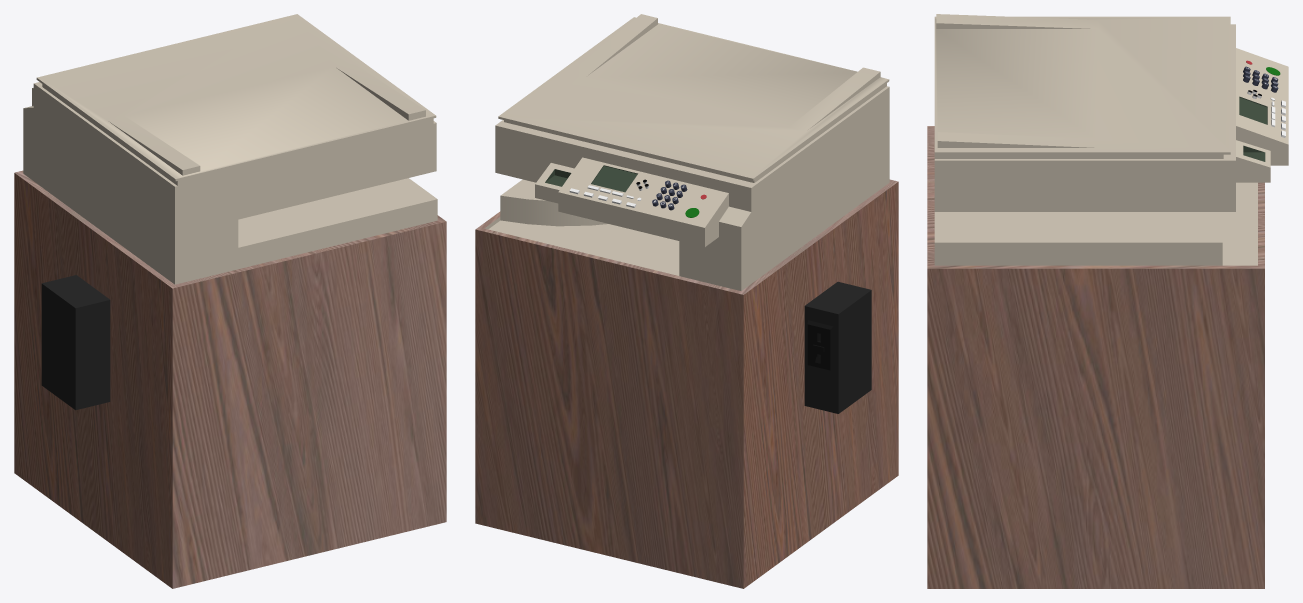
The model's file is xere.fbx.
3 views of the same model, side by side, from view 1: azimuth 30°, elevation 25°; view 2: azimuth 150°, elevation 25°; view 3: azimuth 270°, elevation 25° (orthographic). The views are drawn at different scales.
Parts seen in each view (by area): view 1: Cube; view 2: Cube; view 3: Cube.
Part boxes in pixels (bbox=[...]): Cube: bbox=[14, 14, 446, 588]; Cube: bbox=[475, 14, 898, 588]; Cube: bbox=[927, 14, 1288, 588].
Size of the model in its own units: 235 by 300 by 223.
Materials: 11 (2 with a texture image).
